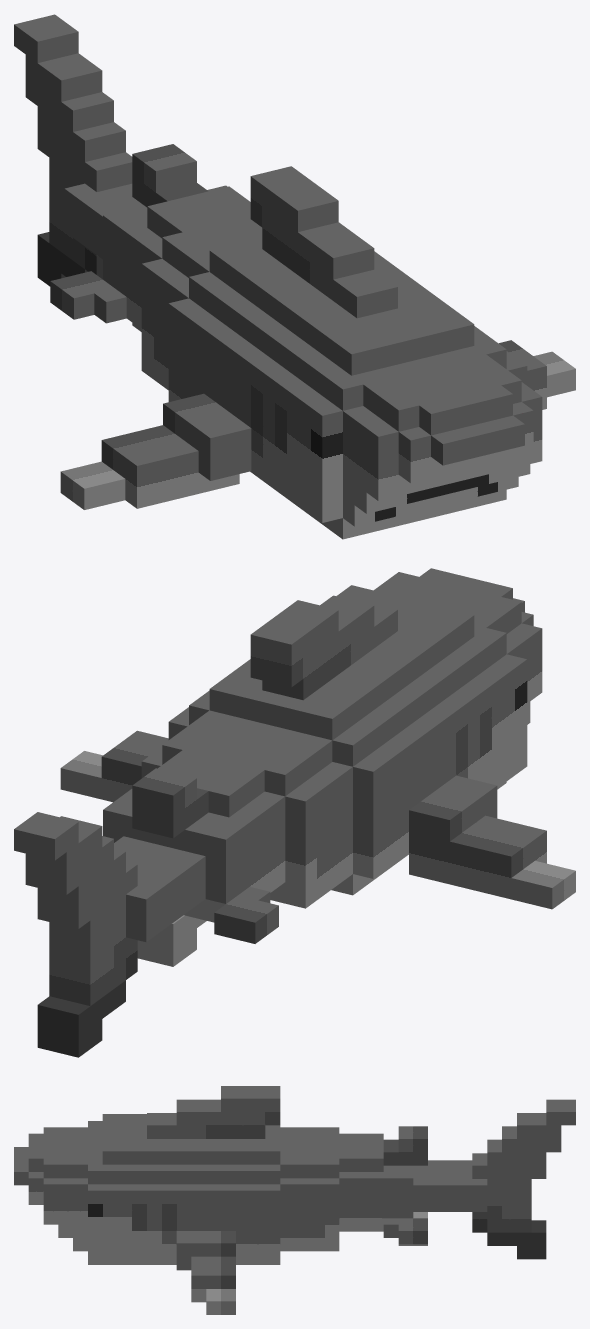
File: animals-2-shark-fa4e2242.glb
The picture shows the model from 3 angles, top to bottom: view 1: azimuth 30°, elevation 25°; view 2: azimuth 150°, elevation 25°; view 3: azimuth 270°, elevation 25°; orthographic projection. The views are drawn at different scales.
Visible parts, largest first — view 1: animals-2-shark.001; view 2: animals-2-shark.001; view 3: animals-2-shark.001.
Part boxes in pixels (x1,y1,x2,y2): animals-2-shark.001: (14, 14, 575, 539); animals-2-shark.001: (14, 568, 575, 1057); animals-2-shark.001: (14, 1086, 575, 1314).
Bounding box in the file's own units: 2.4 × 1.2 × 3.8.
1 material, 1 textured.
